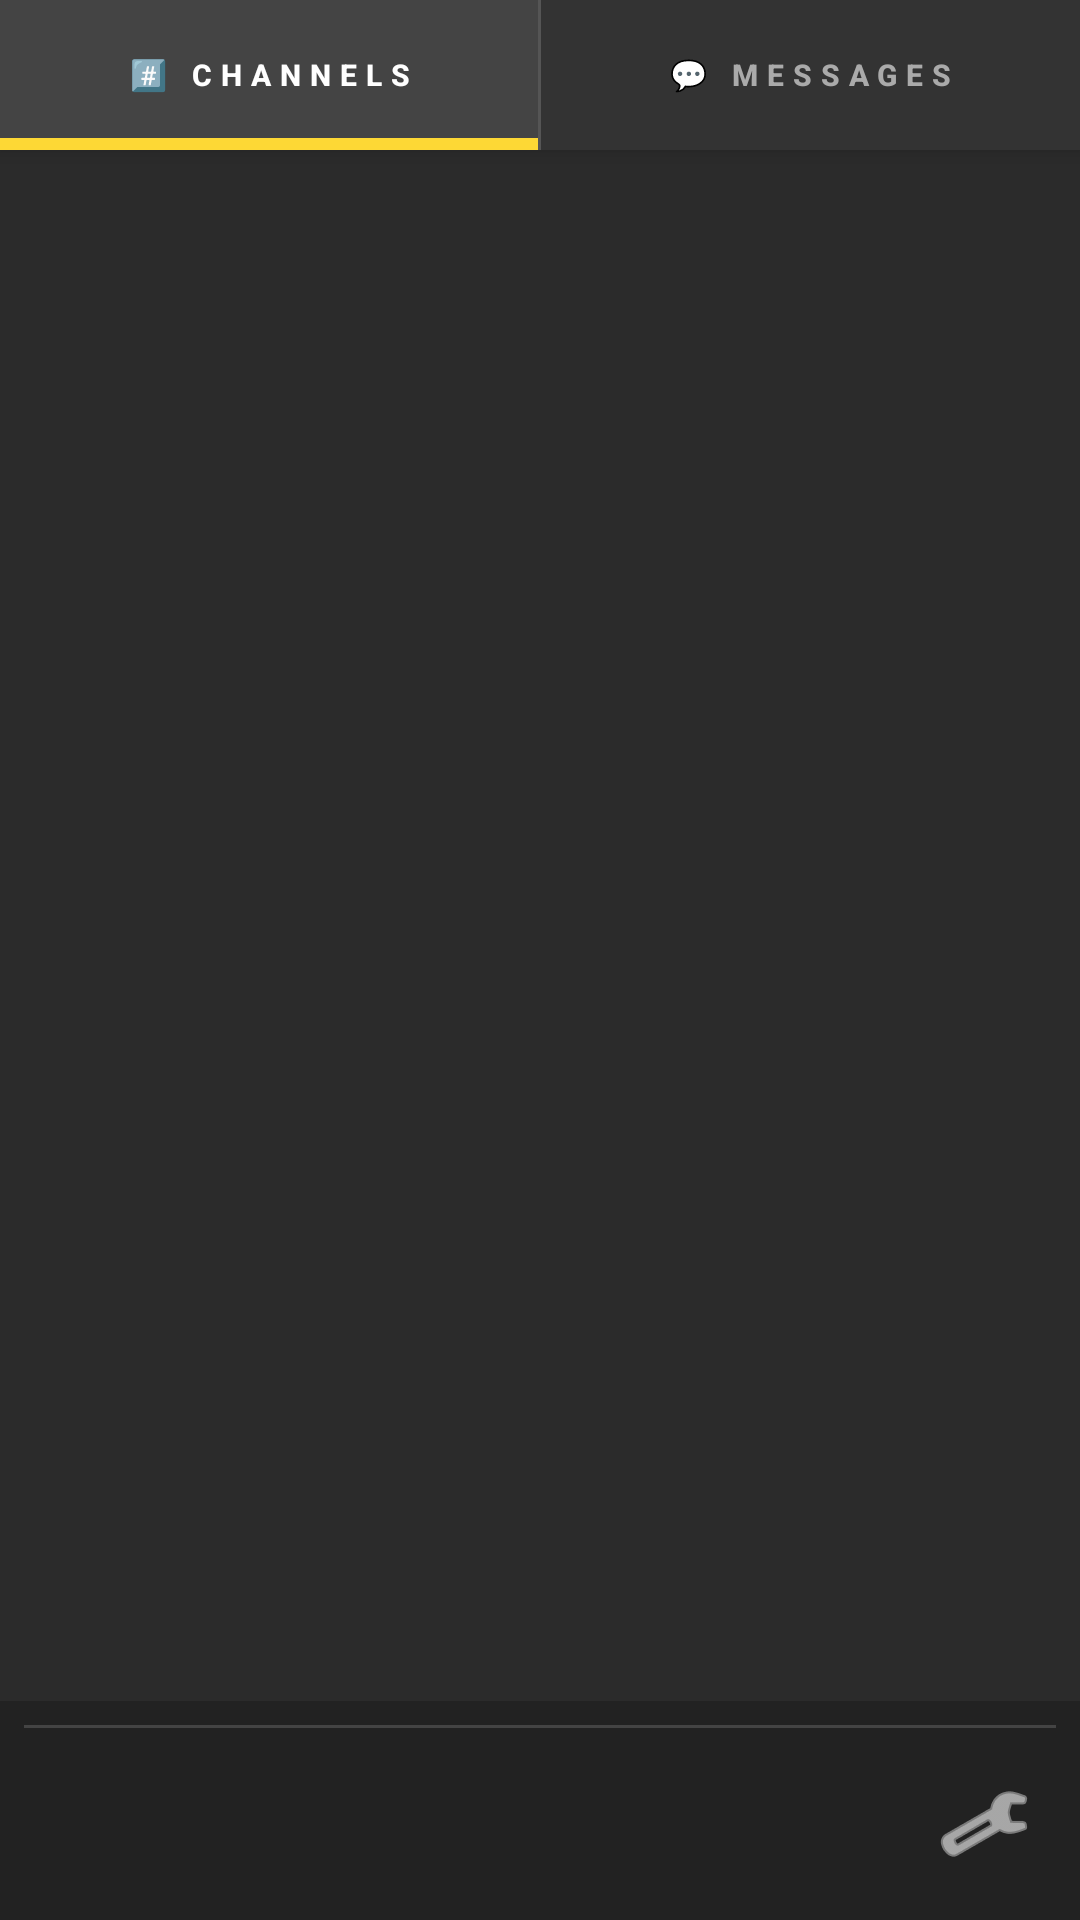

Named icons in this screenshot (1080 × 1920) and their centers, [x,y]:
Settings: [984,1824]
